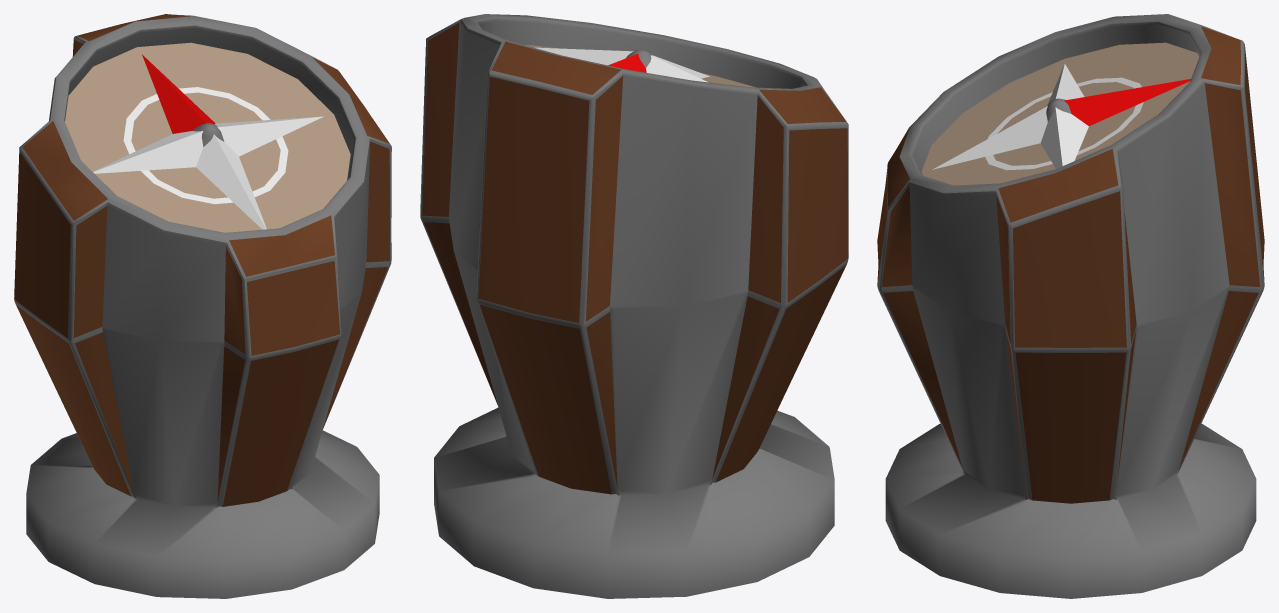
File: CompassTable.fbx
3 views of the same model, side by side, from view 1: azimuth 30°, elevation 25°; view 2: azimuth 150°, elevation 25°; view 3: azimuth 270°, elevation 25° (orthographic). The views are drawn at different scales.
Visible parts, largest first — view 1: cirection4; view 2: cirection4; view 3: cirection4.
Boxes of the visible parts, x1=… form: cirection4: x1=14, y1=14, x2=391, y2=598; cirection4: x1=420, y1=14, x2=848, y2=598; cirection4: x1=877, y1=14, x2=1264, y2=598.
Bounding box in the file's own units: 8.43 × 11.23 × 8.35.
